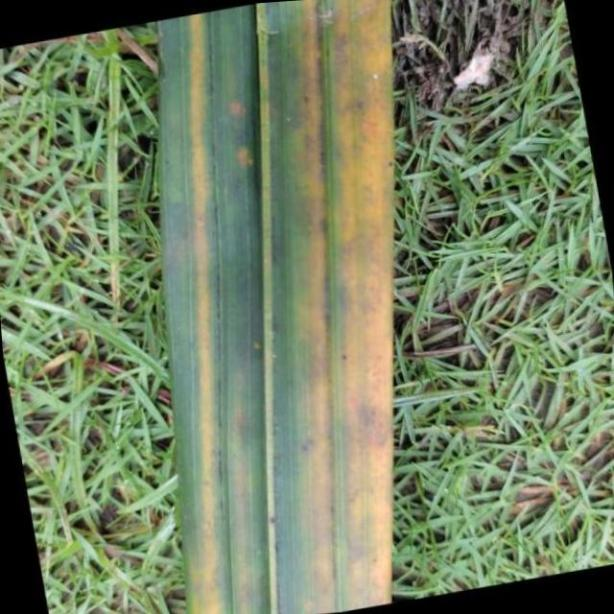Megnesium: (158, 1, 393, 614)
